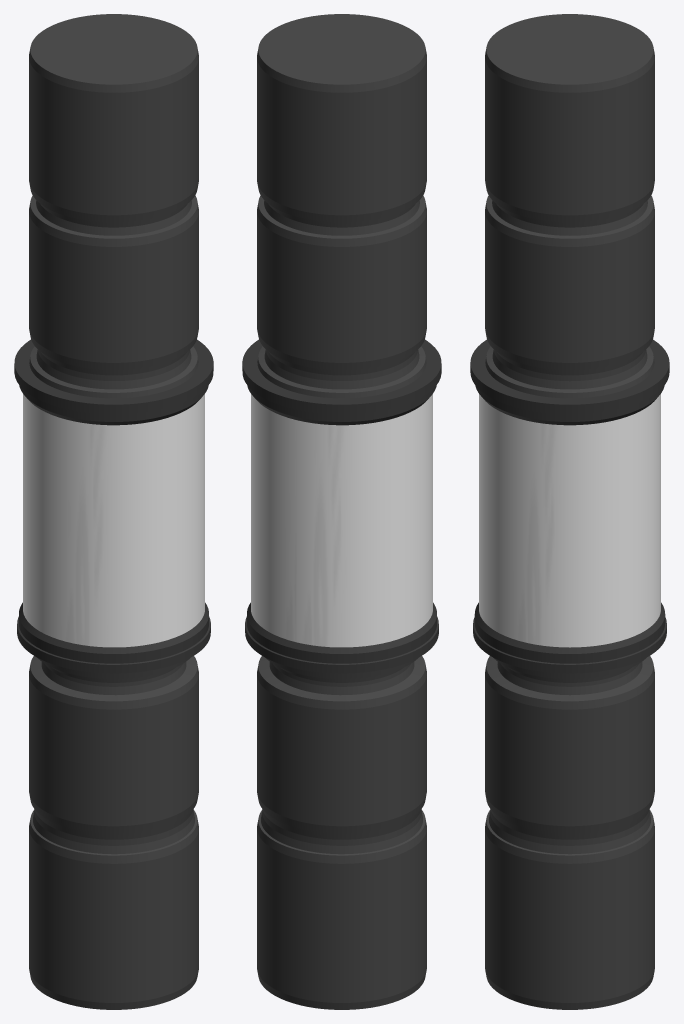
The model's file is LabPillar.fbx.
3 views of the same model, side by side, from view 1: azimuth 30°, elevation 25°; view 2: azimuth 150°, elevation 25°; view 3: azimuth 270°, elevation 25° (orthographic).
Parts seen in each view (by area): view 1: Cylinder, Cylinder.001; view 2: Cylinder, Cylinder.001; view 3: Cylinder, Cylinder.001.
Part boxes in pixels (x1,y1,x2,y2): Cylinder: (29,14,198,1009); Cylinder.001: (14,339,213,673); Cylinder: (257,14,426,1009); Cylinder.001: (242,339,441,673); Cylinder: (485,14,654,1009); Cylinder.001: (470,339,669,673).
Size of the model in its own units: 234 by 1200 by 234.
